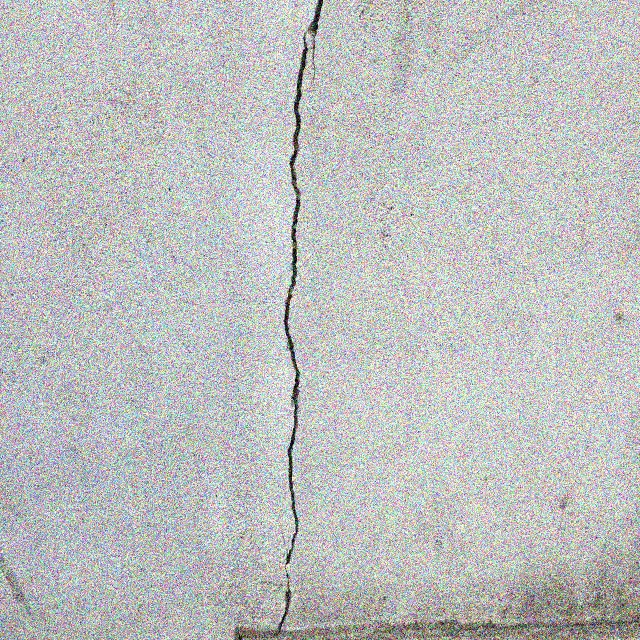SurfaceCrack: (233, 1, 366, 633)
